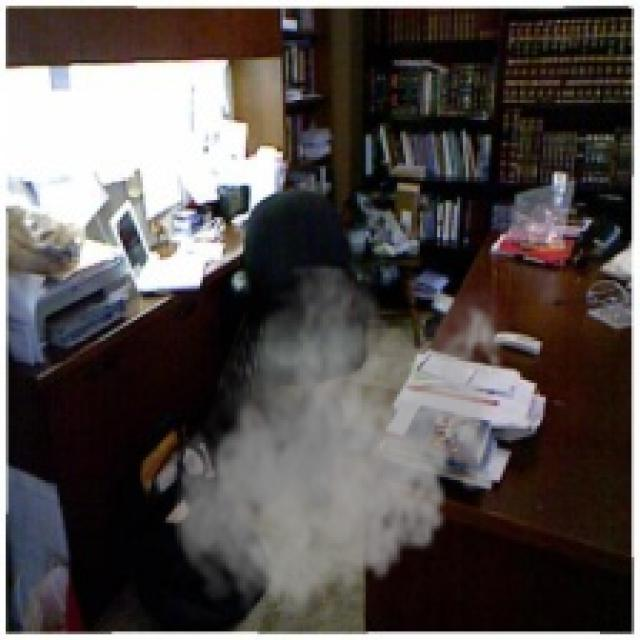smoke: (166, 263, 514, 628)
